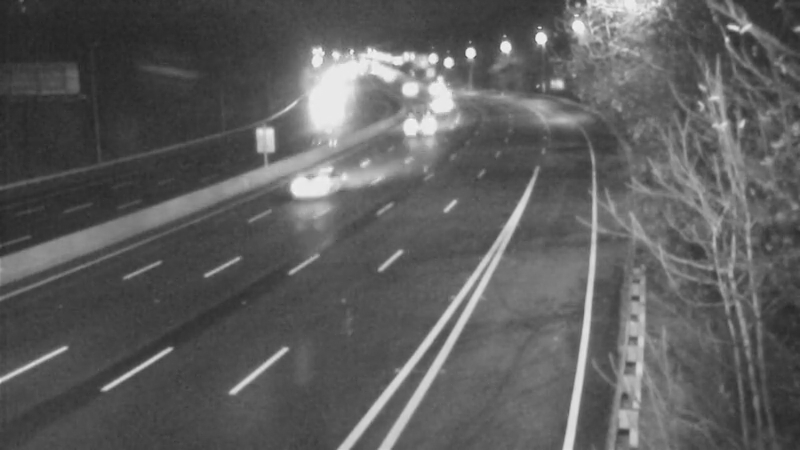vehicle: (274, 148, 354, 228), (386, 65, 436, 115), (409, 65, 459, 115), (416, 85, 466, 135), (397, 101, 447, 151), (299, 88, 349, 138)
